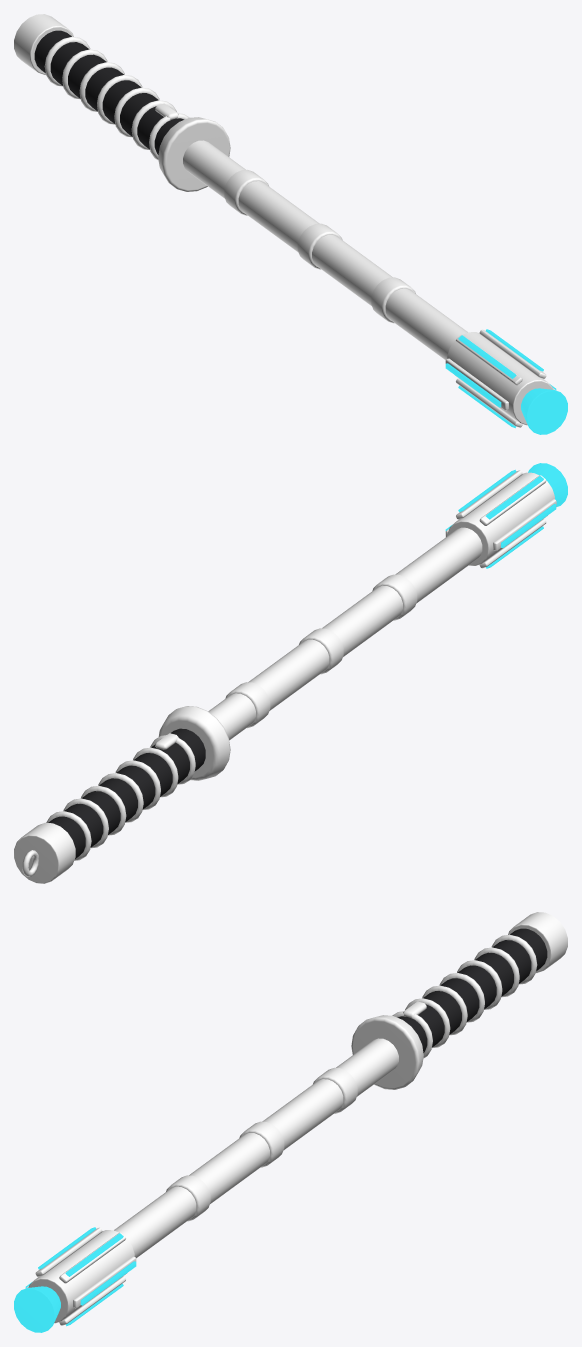
File: baton.glb
3 views of the same model, one above another, from view 1: azimuth 30°, elevation 25°; view 2: azimuth 150°, elevation 25°; view 3: azimuth 330°, elevation 25° (orthographic).
Visible parts, largest first — view 1: shaft, handle, emitter, guard, tip, pommel, shaft_band.001, shaft_band, shaft_band.002; view 2: shaft, handle, emitter, pommel, guard, shaft_band.002, shaft_band, shaft_band.001, tip; view 3: shaft, handle, emitter, guard, tip, pommel, shaft_band.001, shaft_band, shaft_band.002.
Part boxes in pixels (x1,y1,x2,y2): shaft: (183, 140, 467, 360); handle: (34, 30, 183, 154); emitter: (447, 332, 553, 425); guard: (158, 117, 230, 191); tip: (521, 388, 567, 434); pommel: (14, 14, 73, 75); shaft_band.001: (297, 223, 342, 269); shaft_band: (224, 169, 268, 215); shaft_band.002: (371, 277, 415, 323); shaft: (208, 527, 482, 740); handle: (48, 728, 205, 858); emitter: (447, 472, 554, 565); pommel: (14, 822, 75, 883); guard: (158, 706, 230, 780); shaft_band.002: (372, 574, 417, 620); shaft_band: (225, 682, 270, 728); shaft_band.001: (299, 628, 343, 674); tip: (528, 463, 567, 506); shaft: (114, 1038, 398, 1258); handle: (398, 928, 547, 1052); emitter: (28, 1230, 134, 1323); guard: (351, 1015, 423, 1089); tip: (14, 1286, 60, 1332); pommel: (508, 912, 567, 973); shaft_band.001: (239, 1121, 284, 1167); shaft_band: (313, 1067, 357, 1113); shaft_band.002: (166, 1175, 210, 1221).
Bounding box in the file's own units: 0.0585 × 0.0585 × 0.7845.
